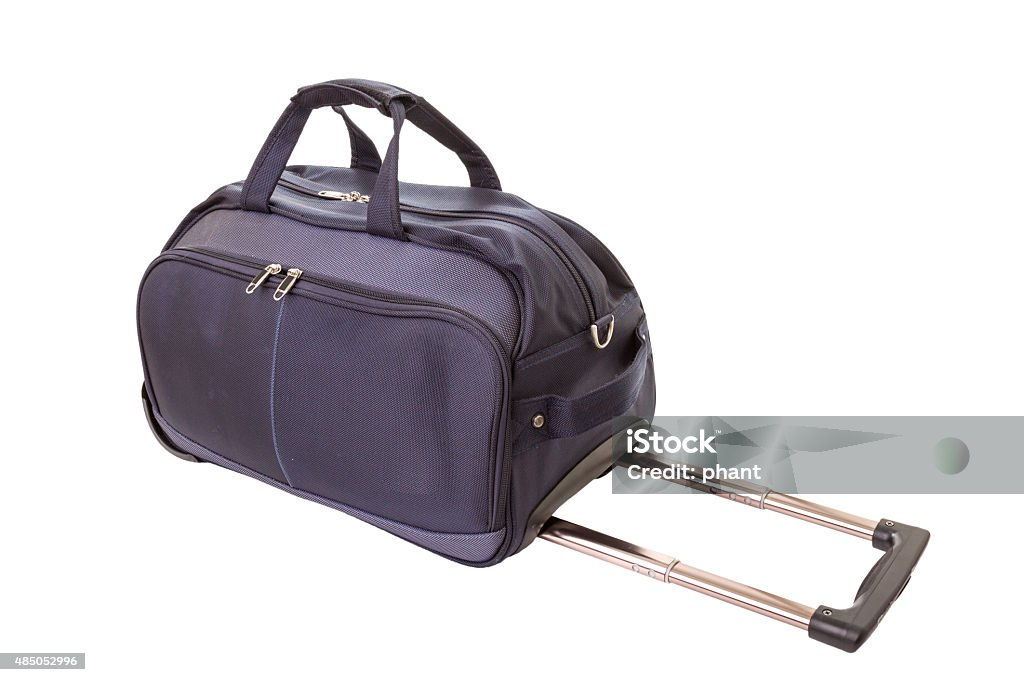Bag: (124, 65, 946, 666)
Handle: (530, 449, 936, 660)
Straps: (242, 80, 500, 239)
